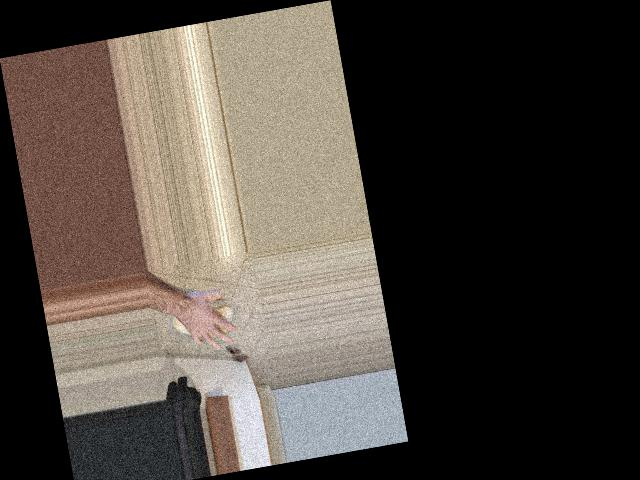cheese: (165, 280, 241, 355)
